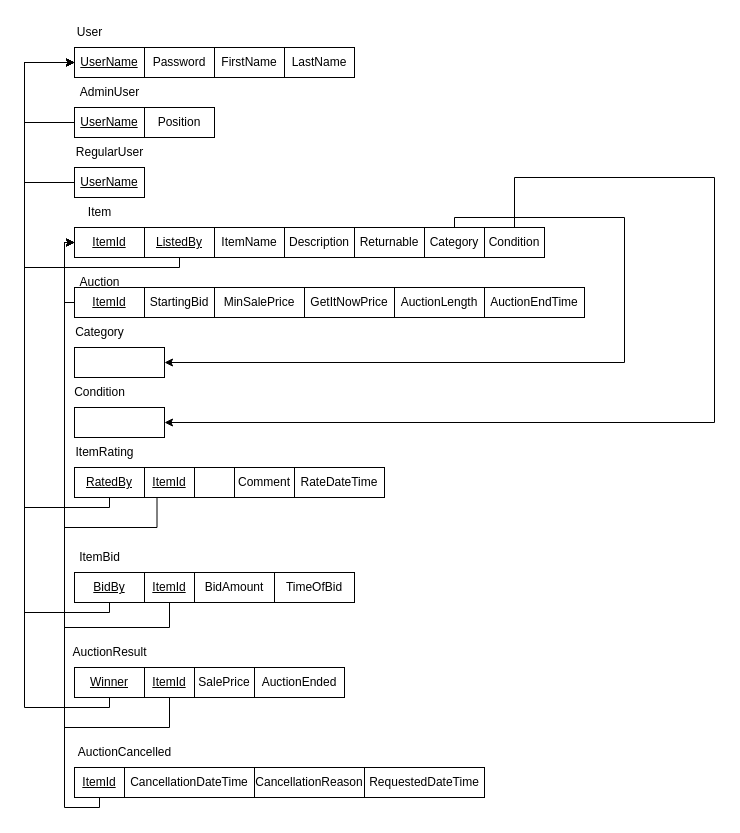
Some shapes in this 740 by 833 pixel diagram are drawn without their labels. Here are the shapes that lost their labels. From the top down, the centre of each, then its label:
(119,362): CategoryName
(119,422): ConditionName
(214,482): Stars
